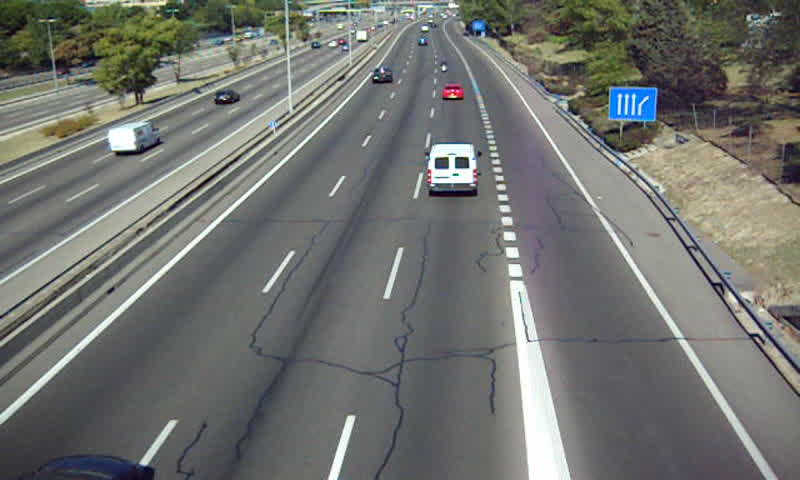car: (442, 83, 466, 102), (371, 67, 394, 84)
motorcycle: (438, 60, 450, 72)
van: (427, 143, 477, 192)
